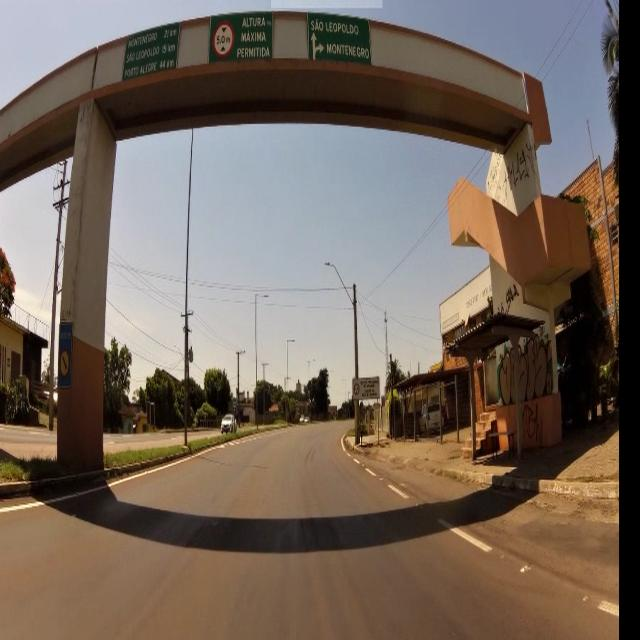I-4: (308, 15, 374, 71), (209, 15, 274, 61), (126, 25, 178, 72)
